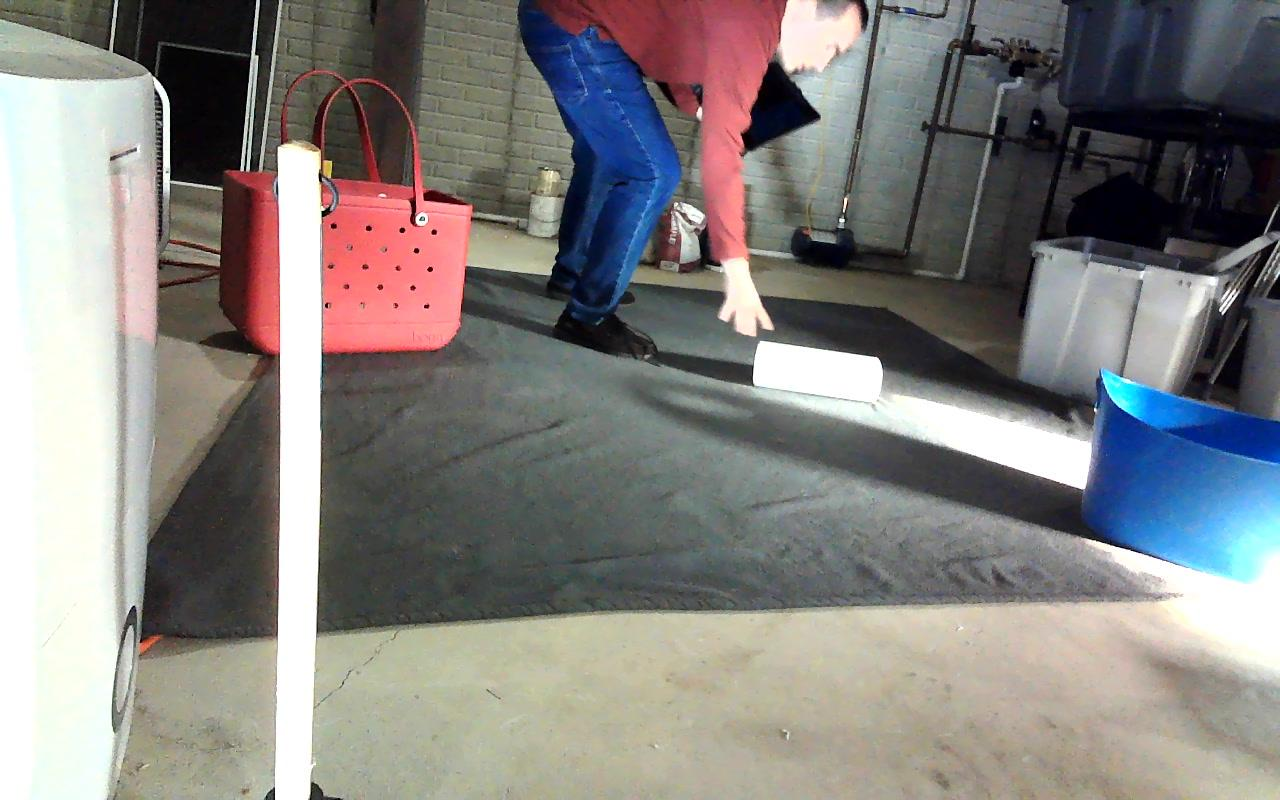coral: (752, 340, 881, 405)
